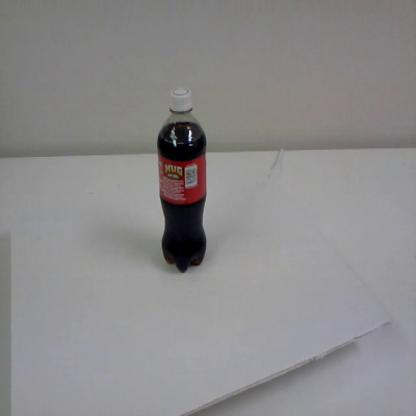bottle: (157, 85, 207, 275)
